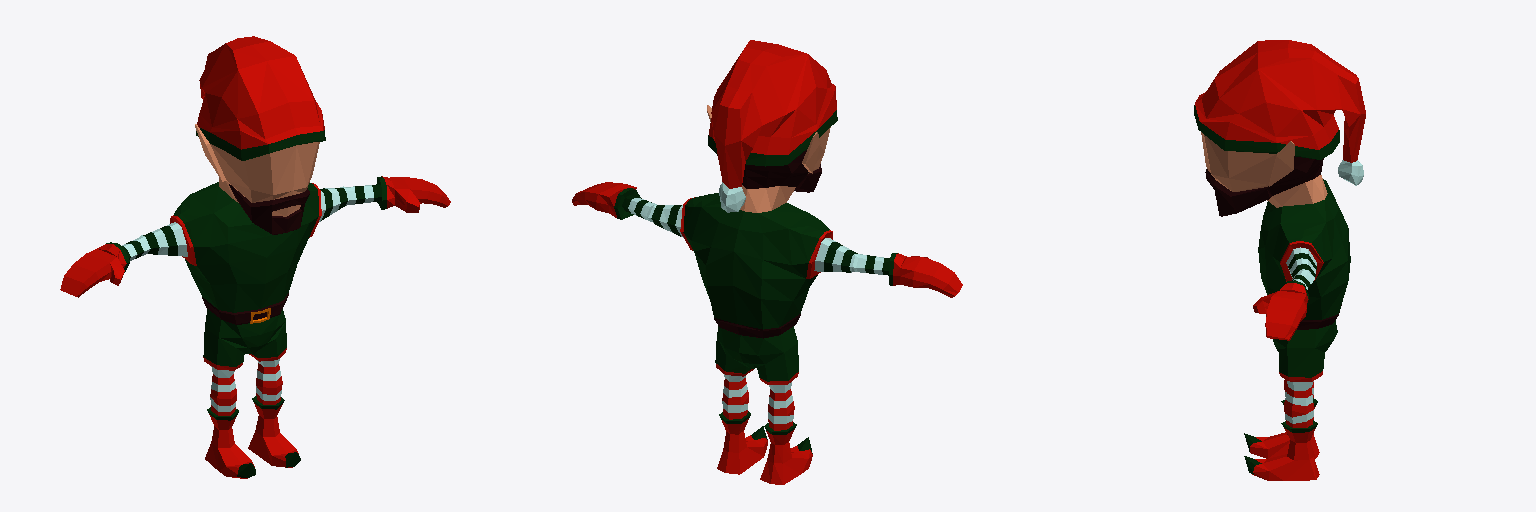
File: char_ELF_4.obj
3 views of the same model, side by side, from view 1: azimuth 30°, elevation 25°; view 2: azimuth 150°, elevation 25°; view 3: azimuth 270°, elevation 25° (orthographic).
Visible parts, largest first — view 1: Cube; view 2: Cube; view 3: Cube.
Part boxes in pixels (left/top/right/bottom): Cube: left=60, top=36, right=450, bottom=478; Cube: left=572, top=40, right=962, bottom=484; Cube: left=1194, top=40, right=1365, bottom=480.
Bounding box in the file's own units: 2.88 × 2.96 × 1.11.